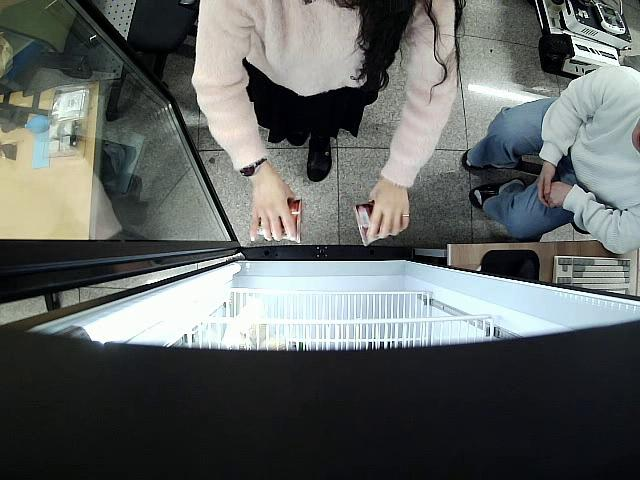00_hand: (249, 178, 299, 243), (367, 183, 411, 241)
06_nuguri_S: (259, 196, 305, 242), (353, 198, 394, 247)
